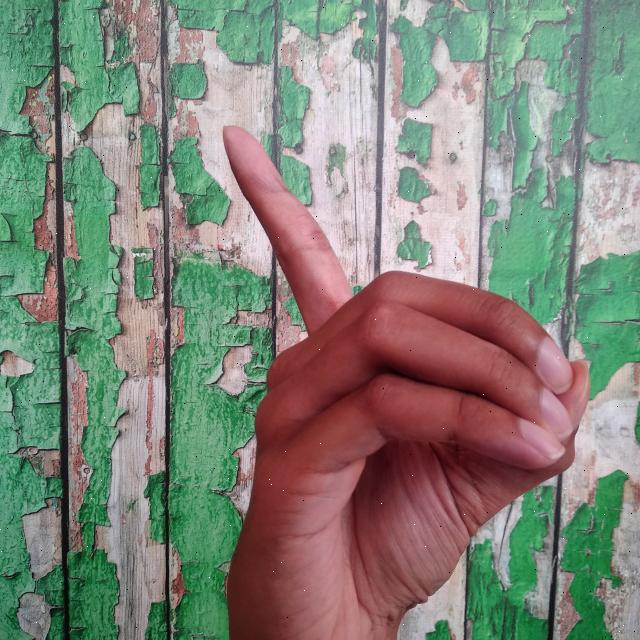D: (210, 119, 595, 640)
